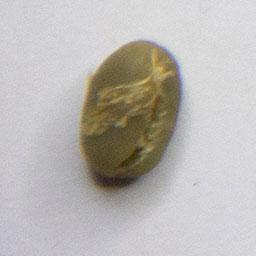peaberry: (77, 36, 185, 184)
